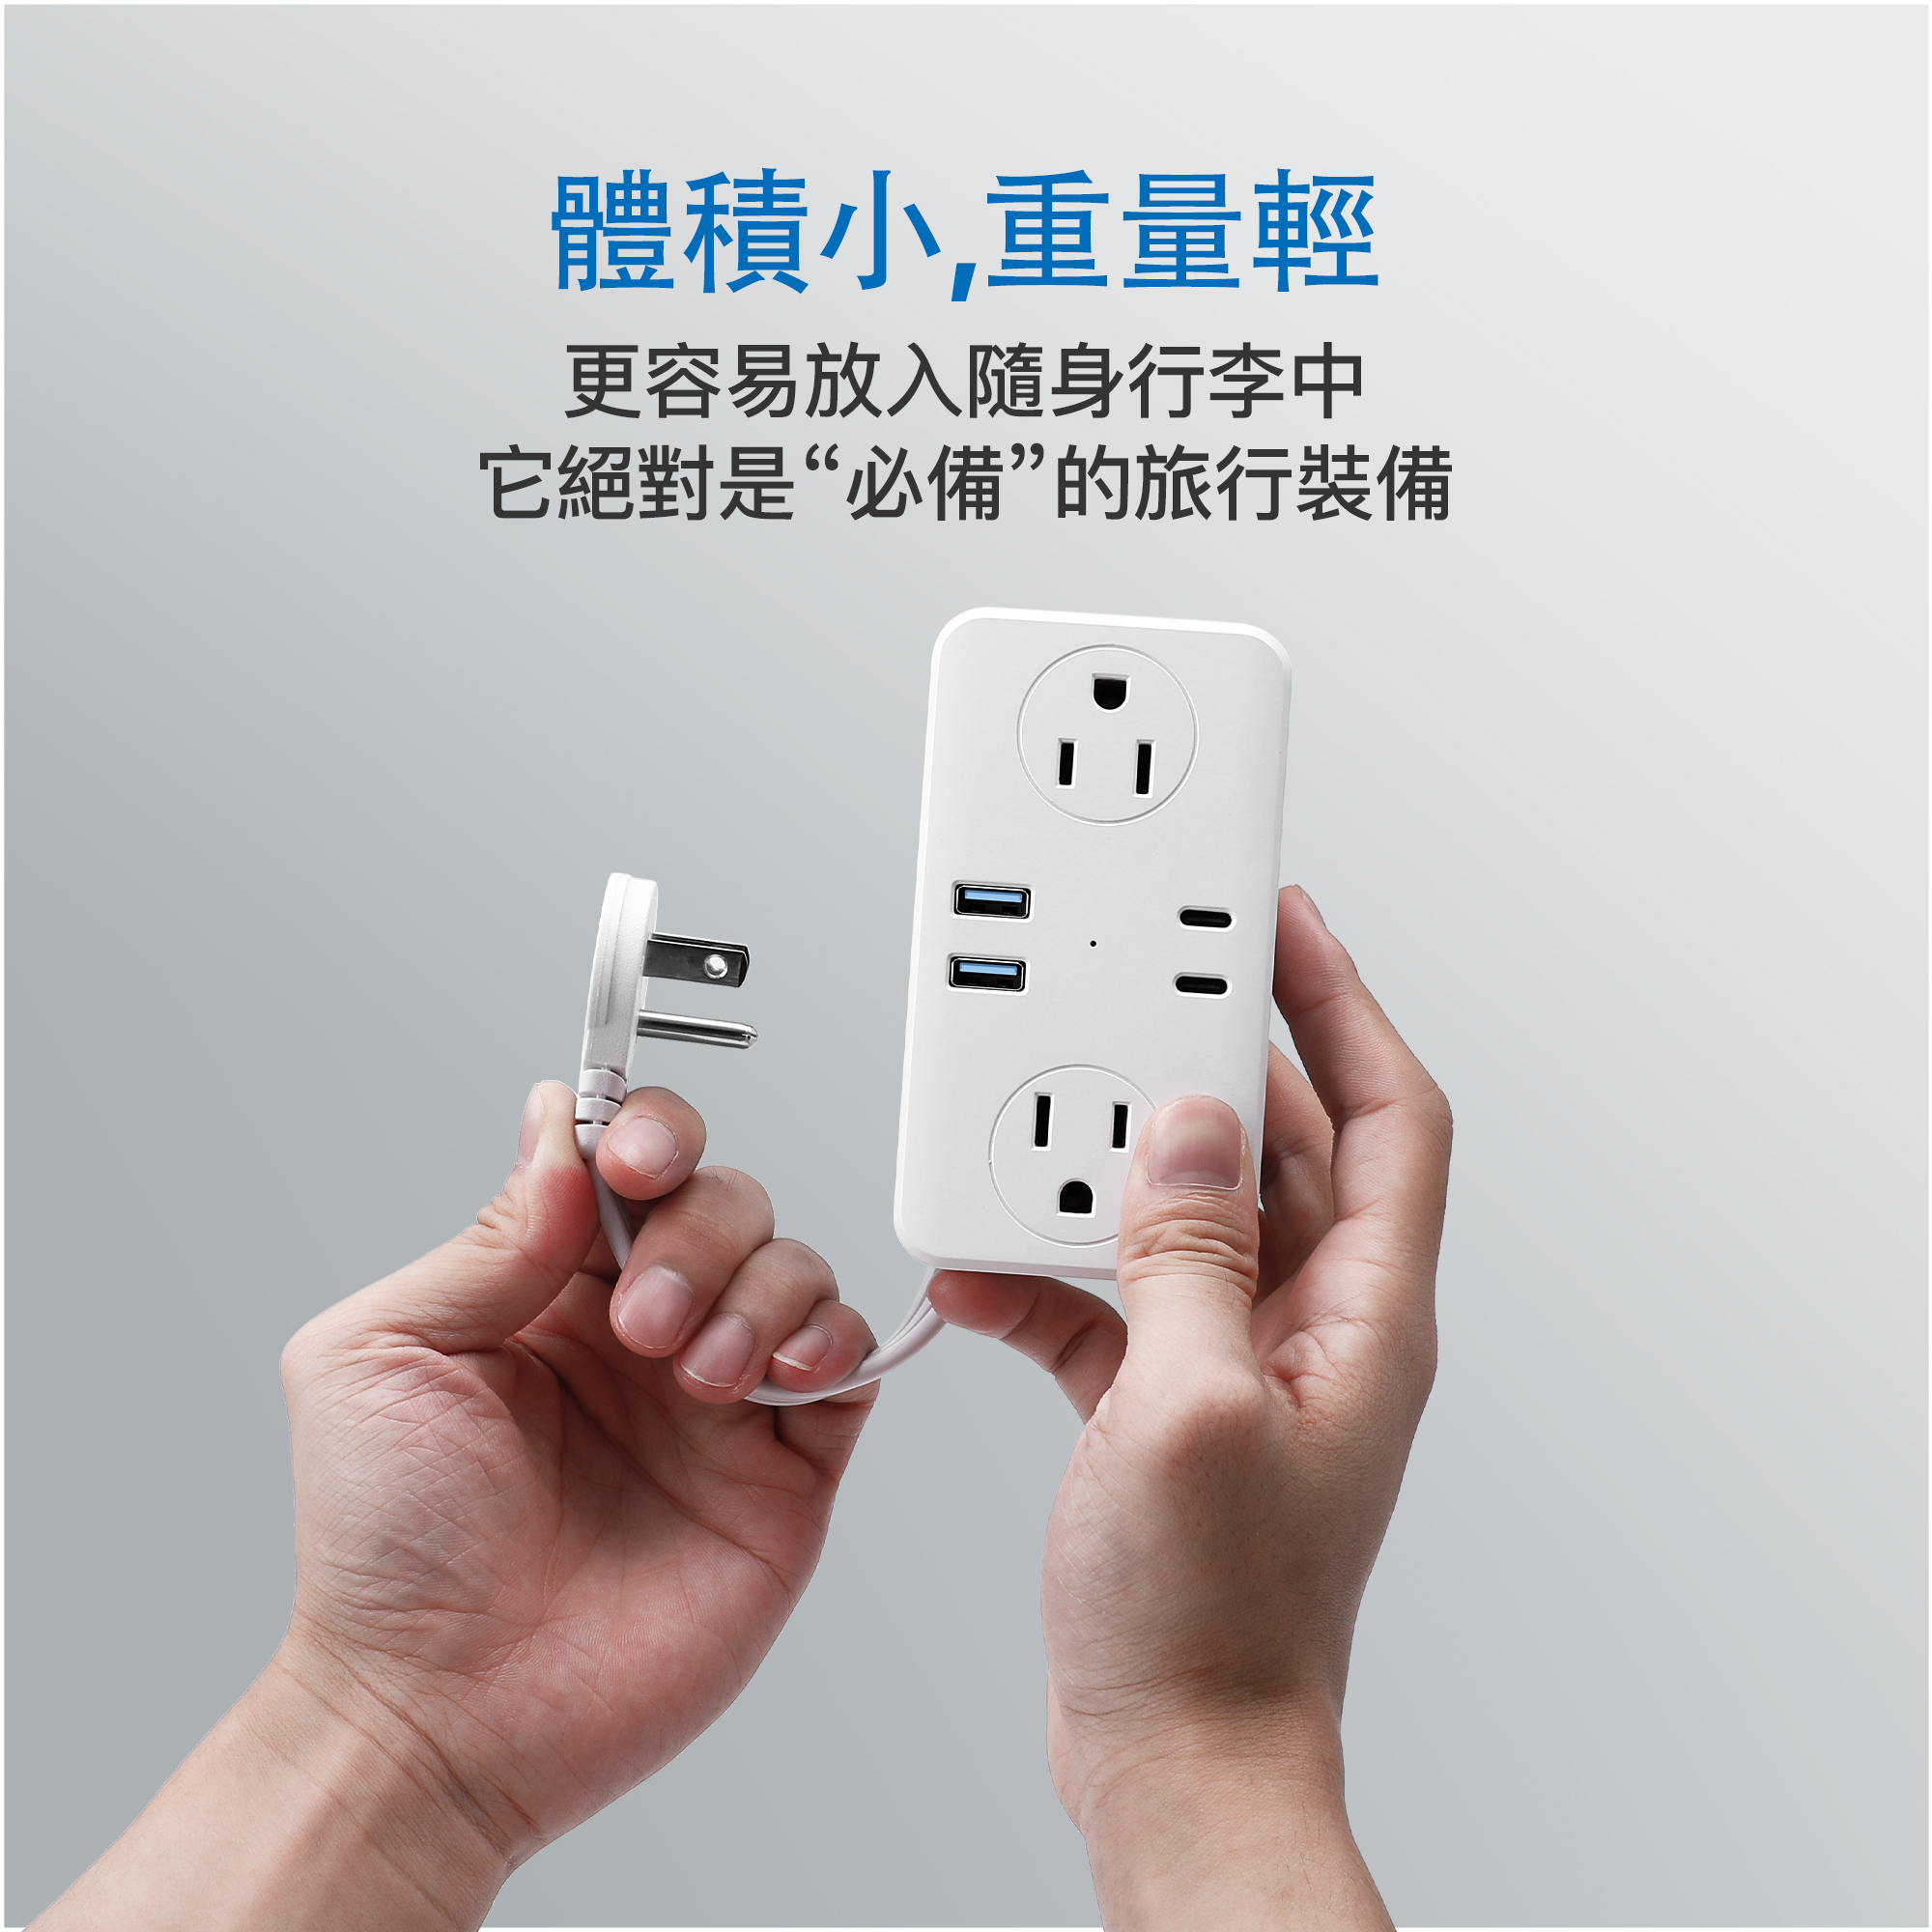socket: (890, 600, 1295, 1311)
